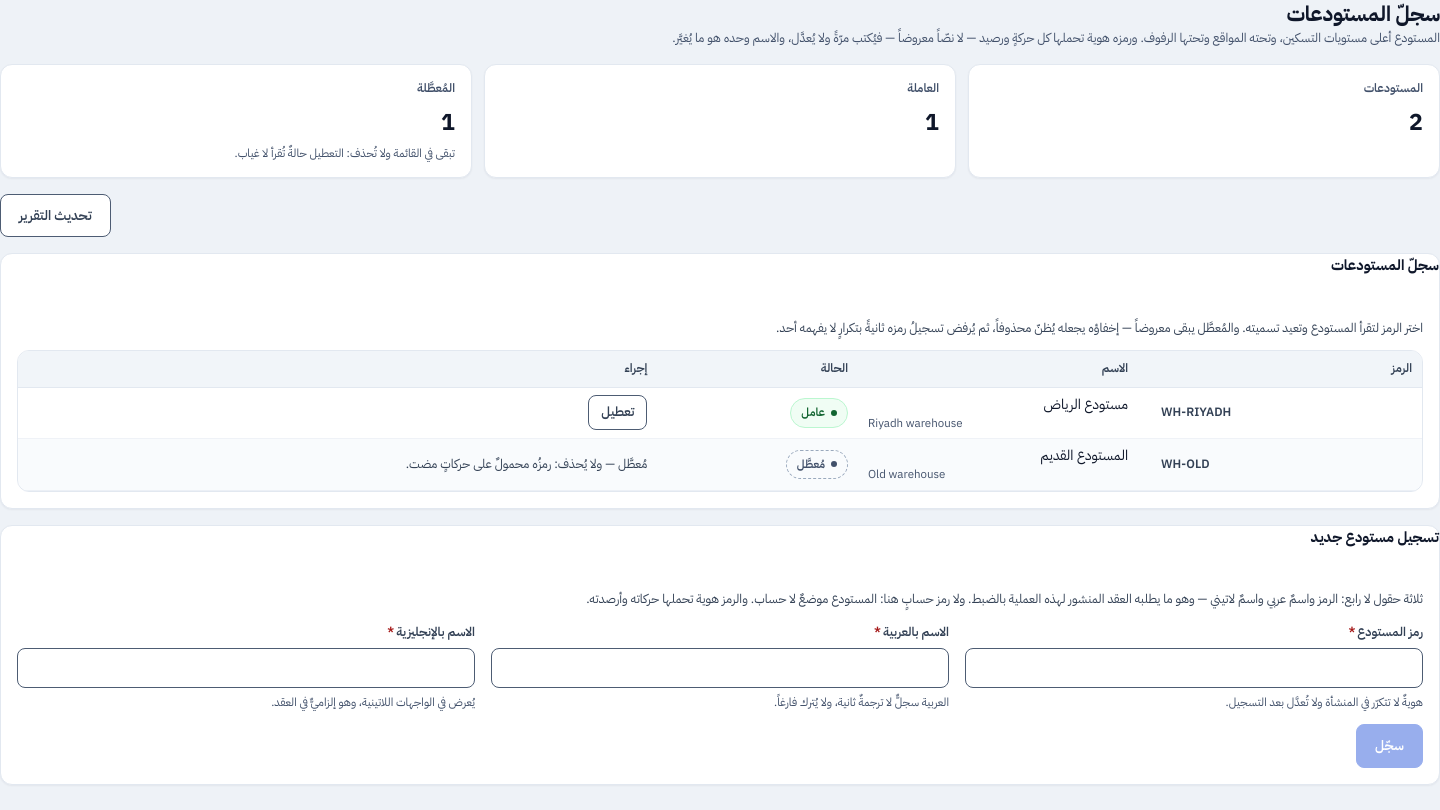
Test: التعطيل — الحكم يُقال قبل الضغط، ويختلف بالمستوى › التعطيل خطوتان: الأولى تُظهر الحكم ولا تُرسل شيئاً
Check: the element with test id "warehouses-table" is shown, box [17, 350, 1423, 492]
Click the button with test id "warehouse-deactivate". click: (618, 413)
box: [588, 395, 647, 430]
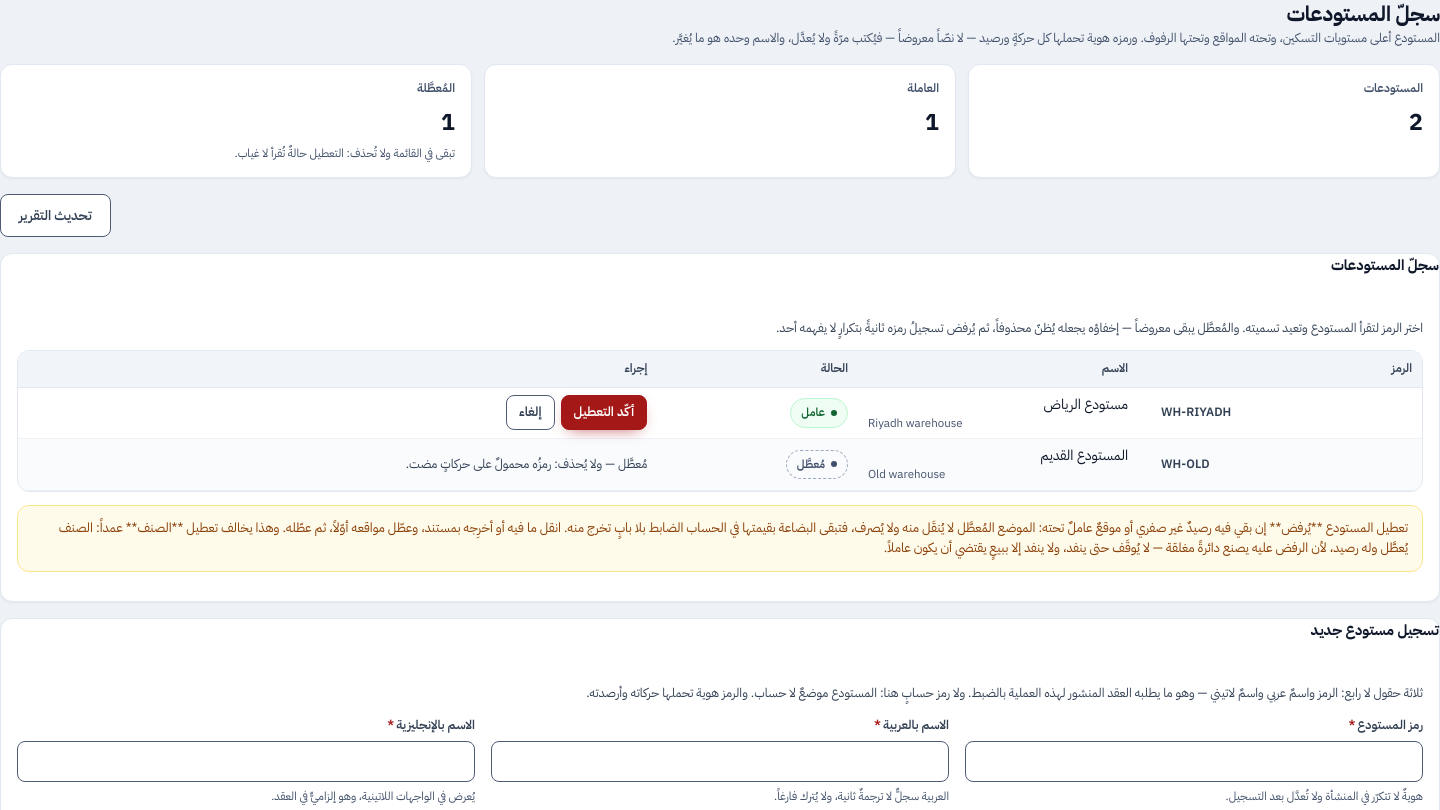
Check: the element with test id "warehouse-confirm" is shown, box [506, 395, 647, 430]
Check: the message with test id "warehouse-off-rule" shows "يُرفض", box [59, 518, 1408, 557]
